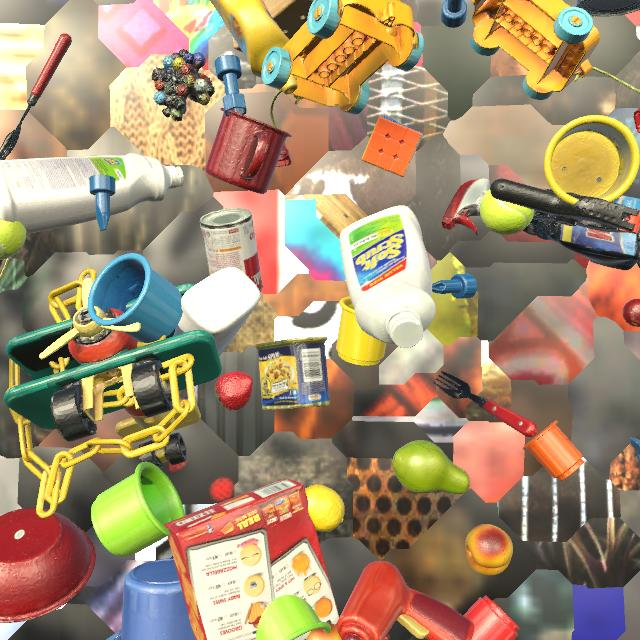ycb_003_cracker_box: (164, 479, 339, 640)
ycb_005_tomato_soup_can: (200, 208, 263, 292)
ycb_006_mustard_bottle: (209, 0, 298, 94)
ycb_007_tuna_fish_can: (576, 0, 640, 17)
ycb_008_pudding_box: (639, 10, 640, 11)
ycb_010_potted_meat_can: (255, 337, 330, 410), (0, 257, 10, 280)
ycb_012_strawberry: (215, 371, 253, 411)
ycb_014_lemon: (305, 484, 345, 532)
ycb_015_peach: (465, 524, 513, 576), (306, 623, 341, 640)
ycb_016_pear: (392, 440, 470, 494)
